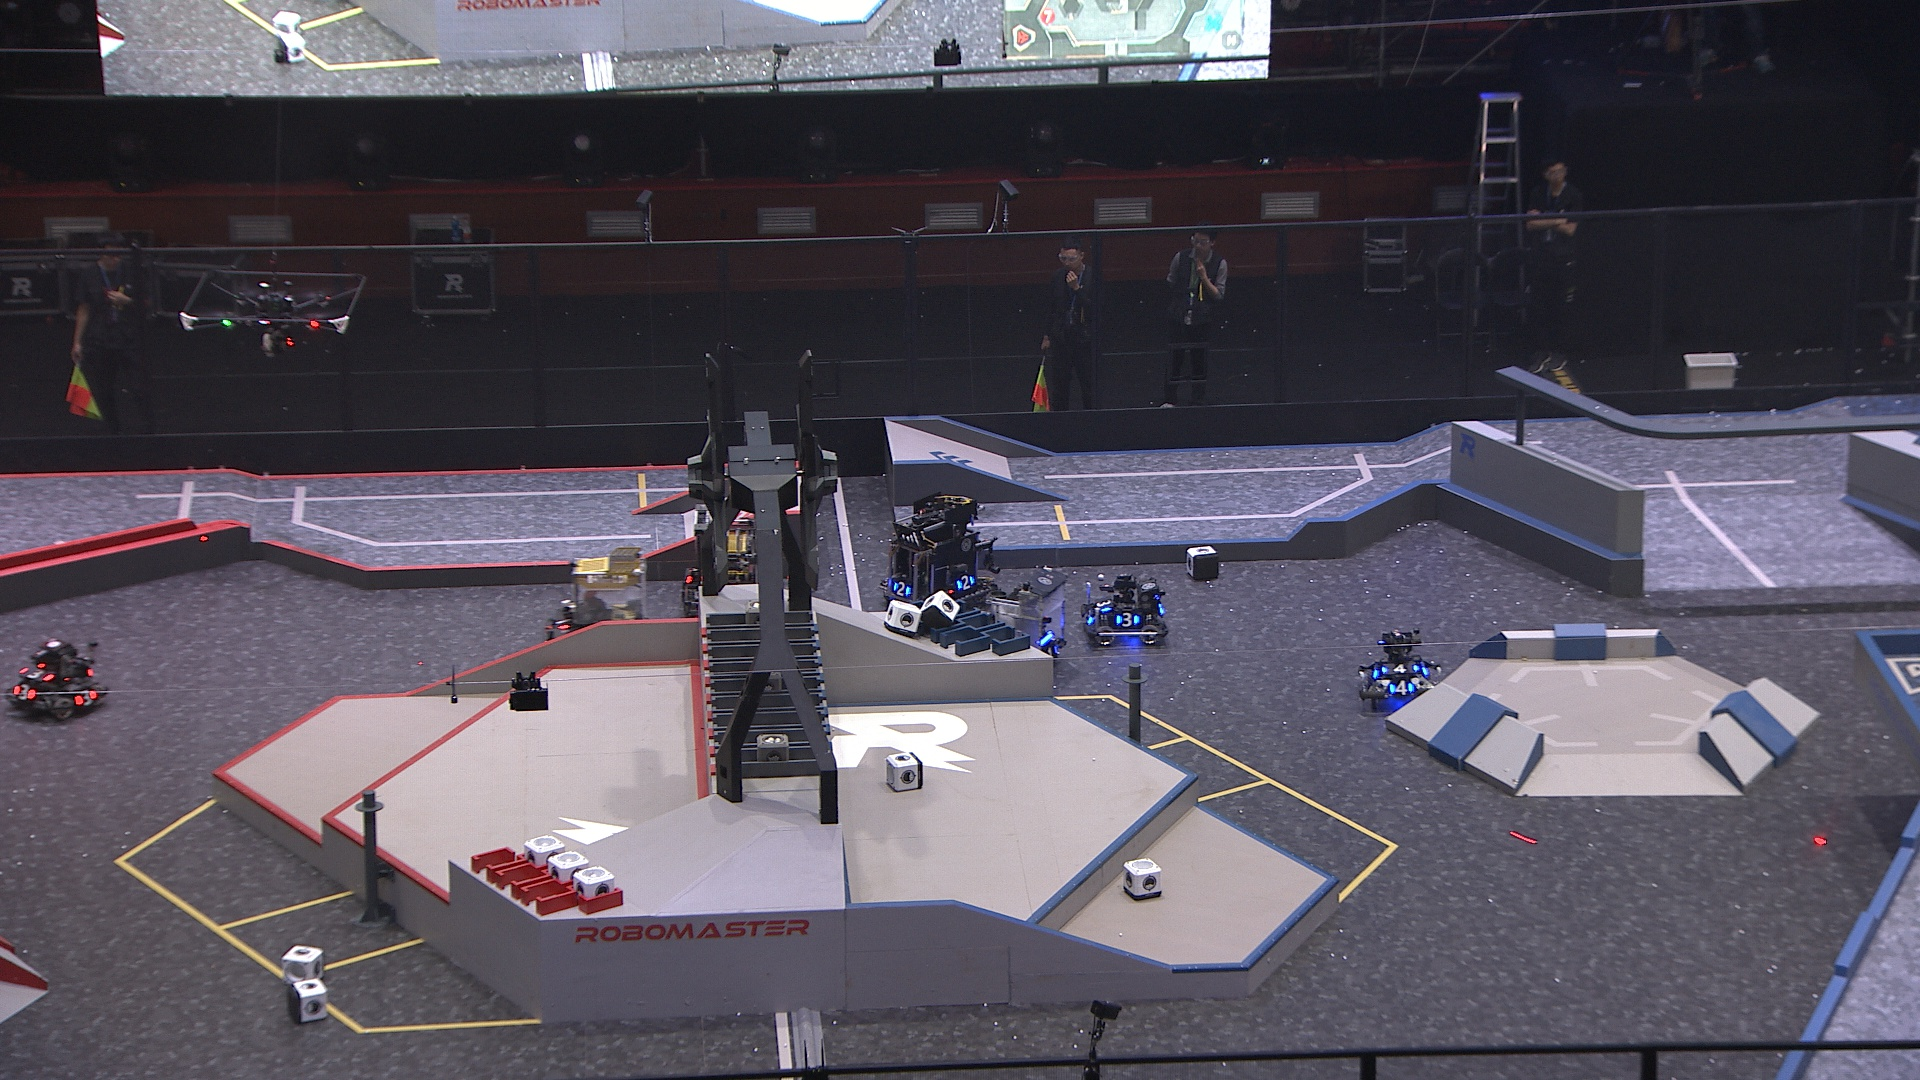armor: (1379, 661, 1419, 676), (20, 666, 54, 683), (73, 687, 98, 707), (1389, 680, 1416, 698), (11, 683, 36, 702), (1116, 612, 1141, 628), (1097, 595, 1114, 617), (955, 572, 975, 589), (891, 580, 911, 597), (556, 613, 570, 636), (1044, 642, 1059, 655)
car: (877, 493, 1001, 624), (539, 547, 647, 665), (675, 518, 775, 622), (977, 564, 1073, 665), (3, 637, 109, 721), (1083, 571, 1171, 651), (1356, 632, 1441, 708)
